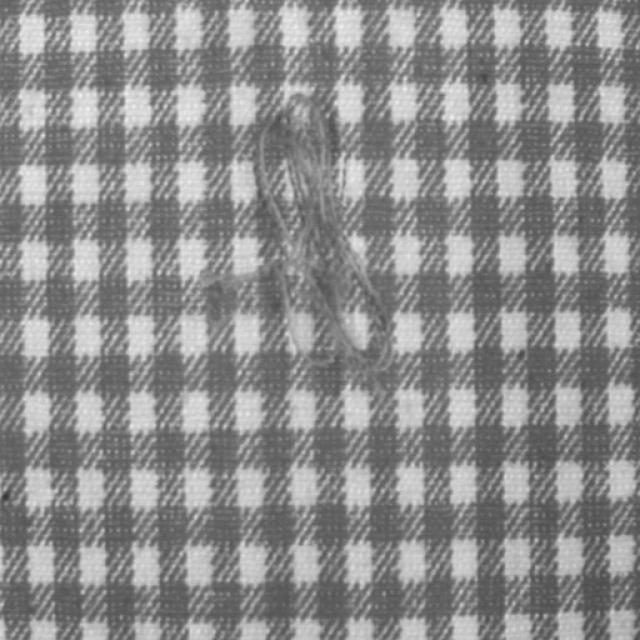Foreign-Body-Defect: (255, 95, 391, 374), (269, 268, 346, 369)
